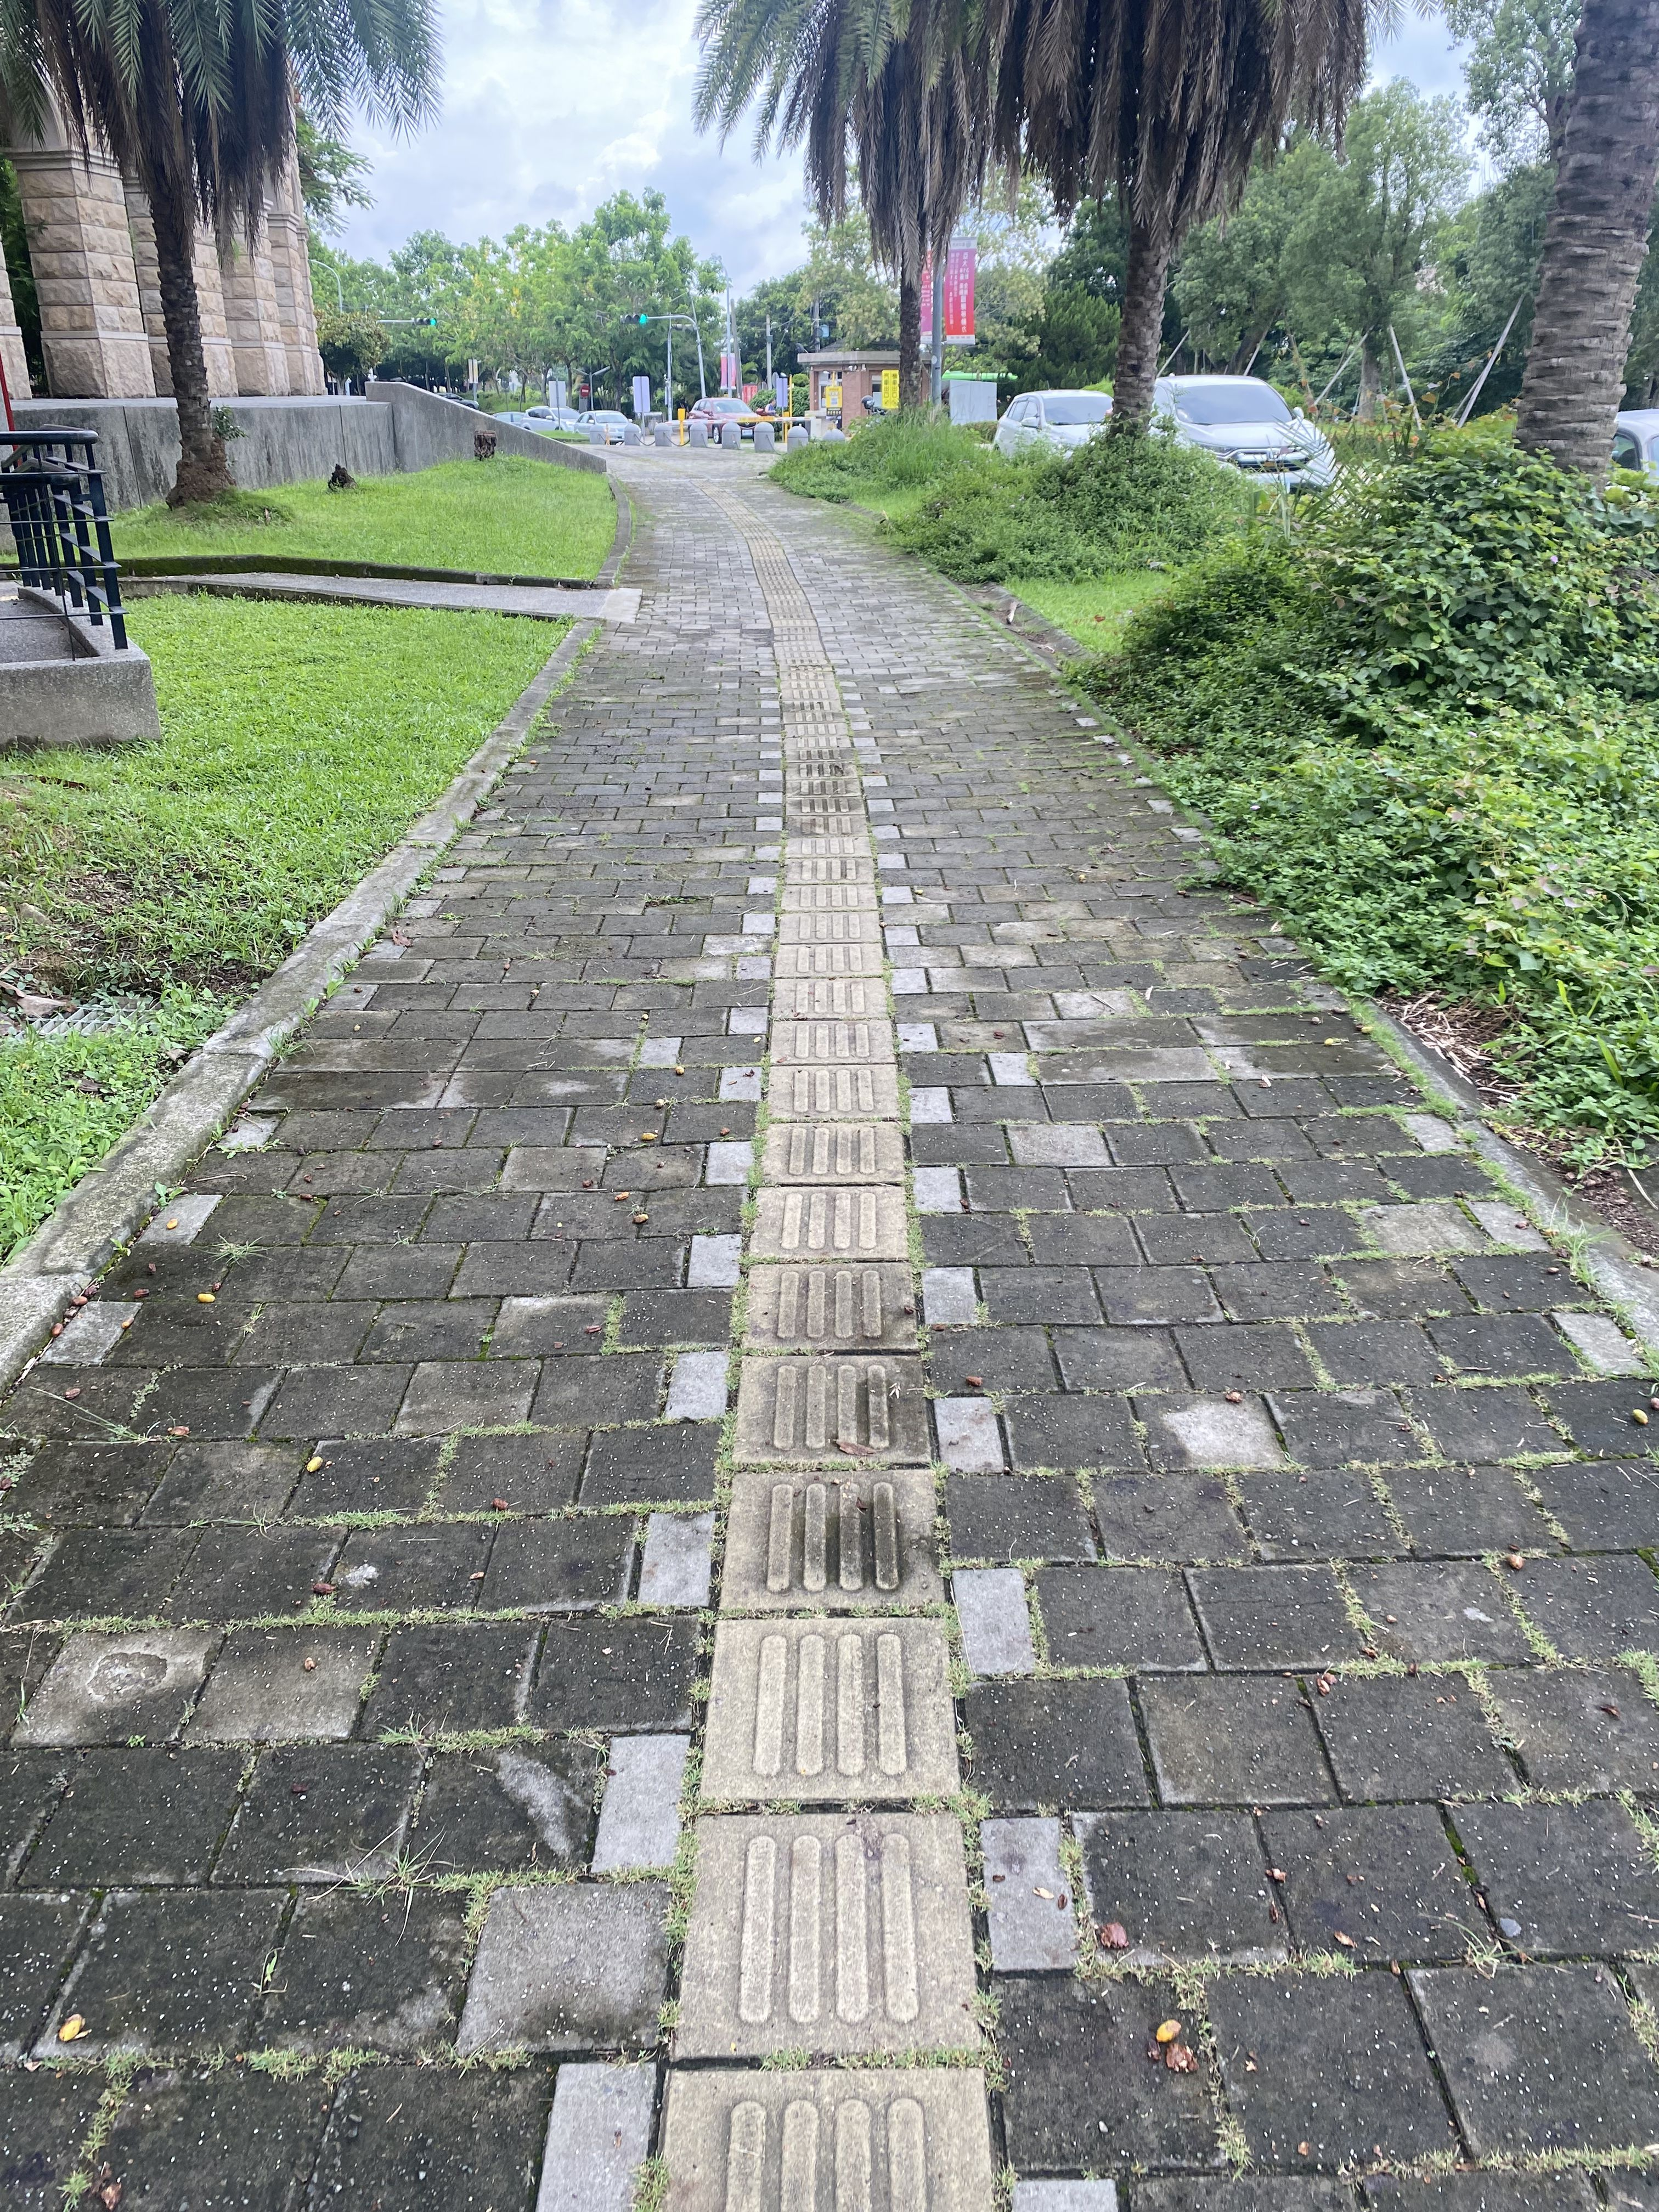0: (14, 662, 1659, 2212)
sidewalk: (568, 404, 1161, 1440)
